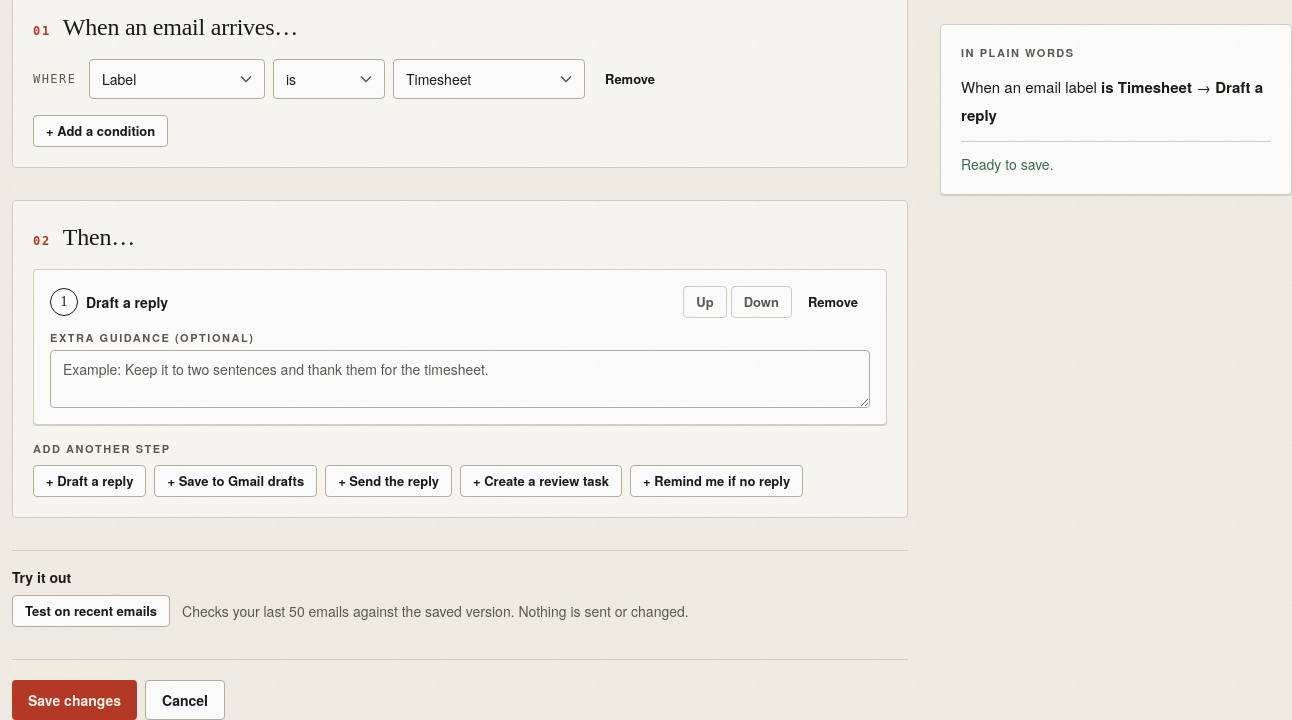
it: AutomationBuilder › tests a saved automation against recent emails
The image size is (1292, 720).
(page scrolled)
Click the button "Test on recent emails": (91, 611) [12,595,170,627]
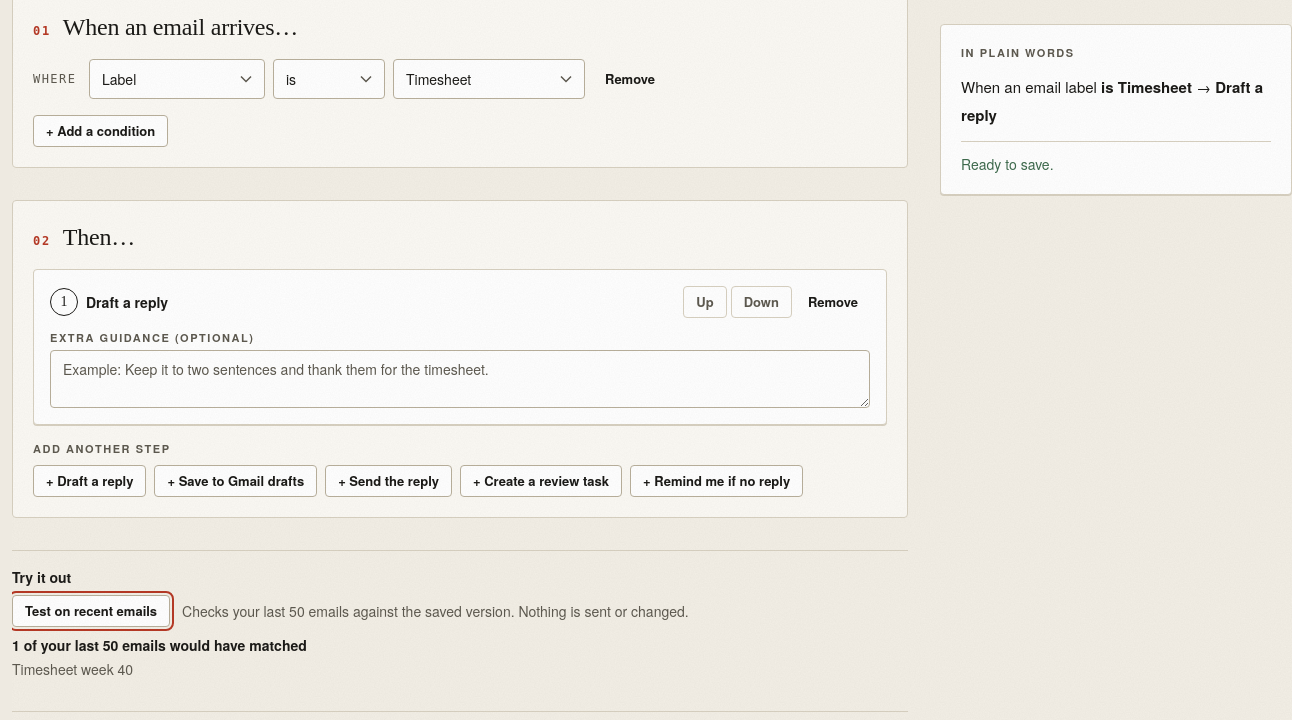
Result: the list item "Timesheet week 40" is shown at [12,659,133,679]
